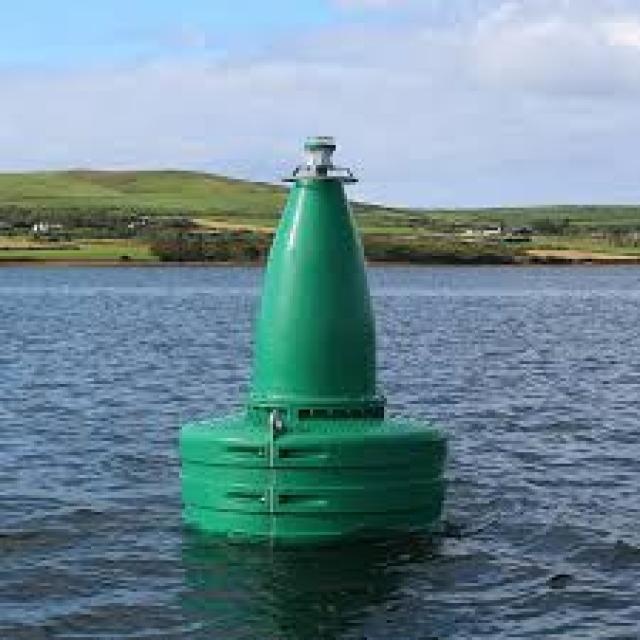marque: (175, 115, 456, 546)
